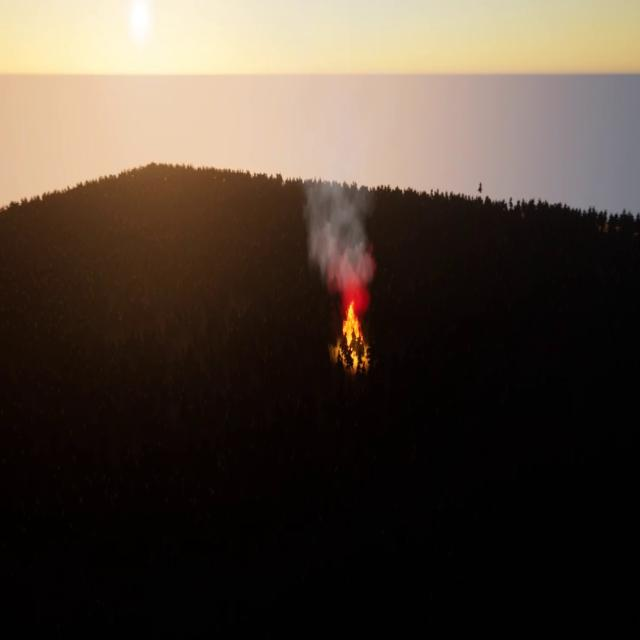fire: (334, 303, 372, 372)
smoke: (303, 170, 381, 311)
